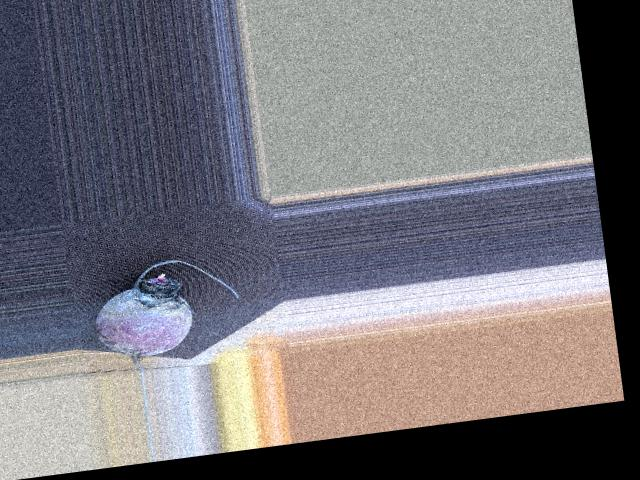beet: (87, 251, 247, 378)
